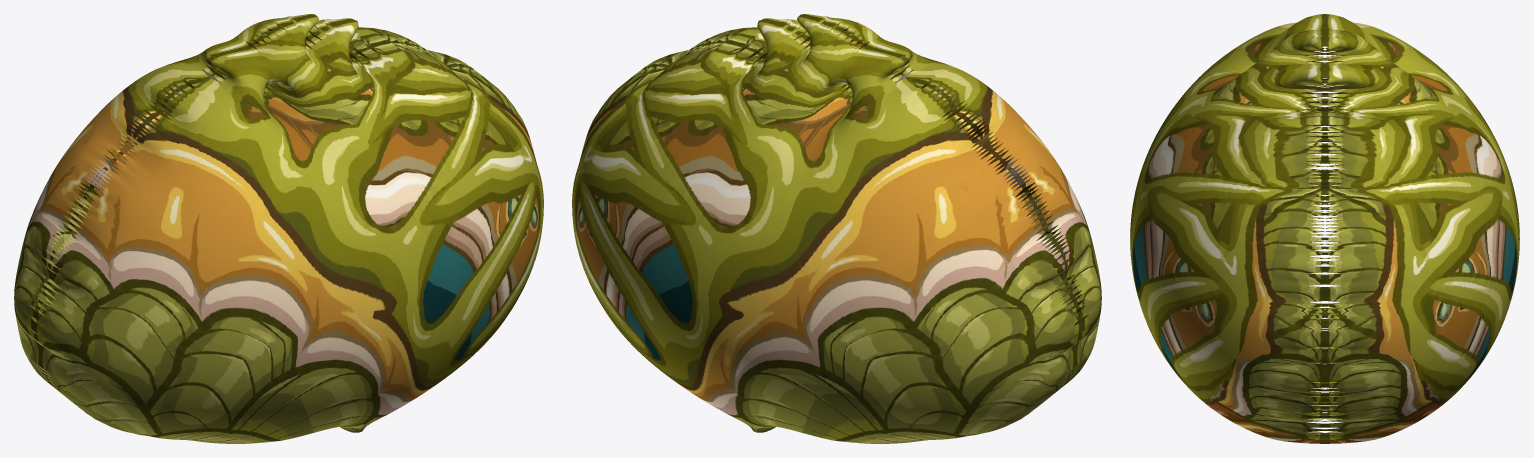
Rendered from vine_pod.glb.
3 views of the same model, side by side, from view 1: azimuth 30°, elevation 25°; view 2: azimuth 150°, elevation 25°; view 3: azimuth 270°, elevation 25° (orthographic). The views are drawn at different scales.
Parts seen in each view (by area): view 1: vine_pod; view 2: vine_pod; view 3: vine_pod.
Part boxes in pixels (x1,y1,x2,y2): vine_pod: (14, 14, 543, 443); vine_pod: (572, 14, 1101, 443); vine_pod: (1130, 14, 1519, 443).
Bounding box in the file's own units: 0.989 × 0.758 × 0.7052.
Materials: 1 (1 with a texture image).
